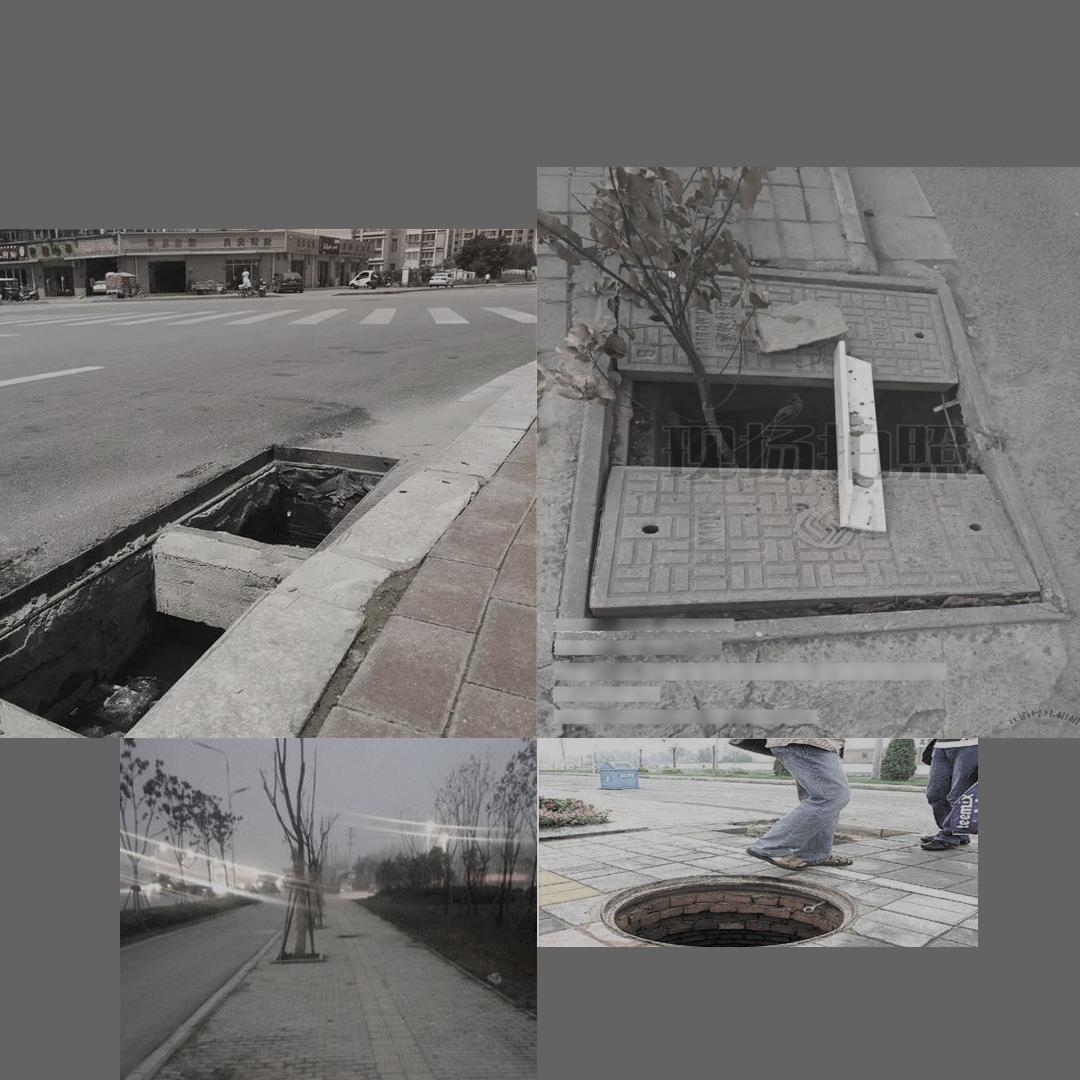lose: (551, 253, 1074, 656), (0, 435, 422, 732), (598, 874, 860, 946)
